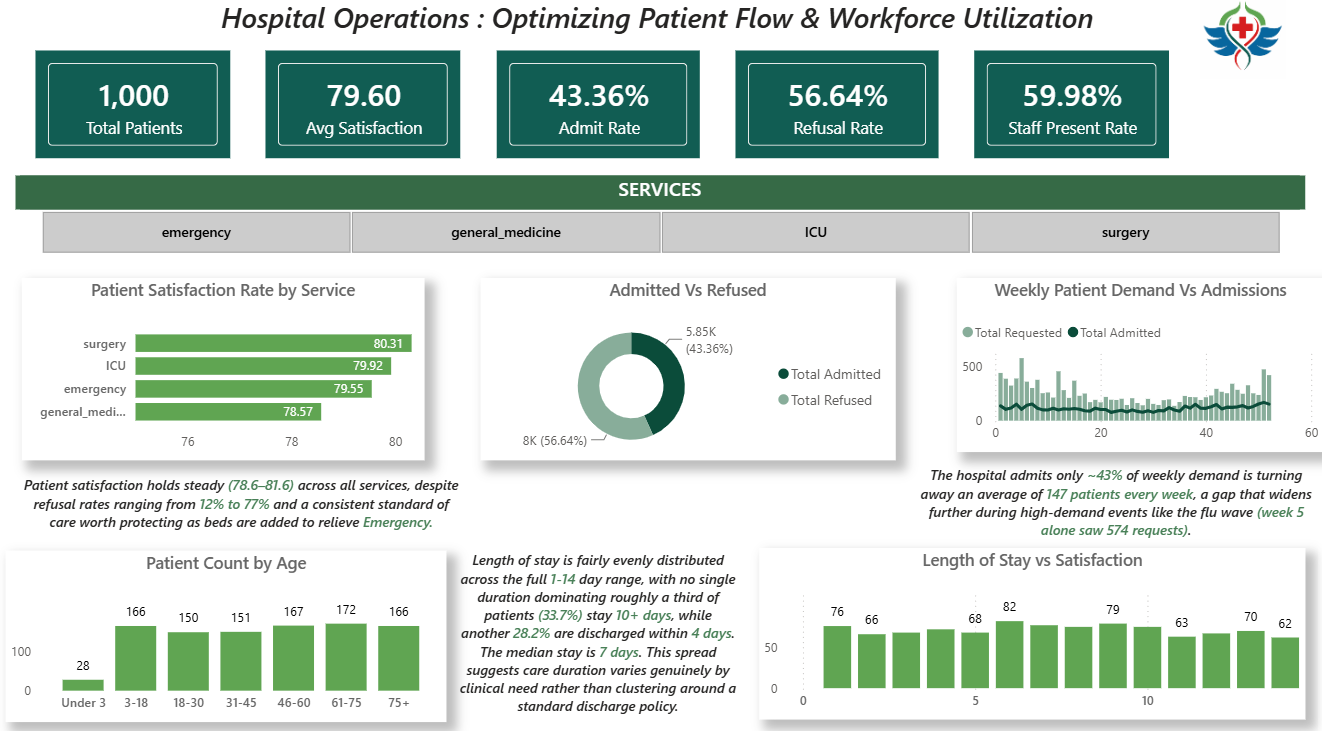

The page's visual inventory and layout, read from the dashboard file:
{"tool":"powerbi","page":{"name":"Patients","canvas":[1280,720],"ordinal":0},"visuals":[{"type":"textbox","box":[178.7,0,922.6,101],"z":0},{"type":"image","box":[1140.1,0,122.4,83],"z":1000},{"type":"cardVisual","fields":{"Data":["patients.Total Patients"]},"box":[31.4,50.7,198.6,114.3],"z":2000},{"type":"cardVisual","fields":{"Data":["staff.Staff Present Rate"]},"box":[937.4,50.7,198.6,114.3],"z":3000},{"type":"cardVisual","fields":{"Data":["services_weekly.Admit Rate"]},"box":[476.2,50.7,206.8,114.3],"z":4000},{"type":"cardVisual","fields":{"Data":["patients.Avg Satisfaction"]},"box":[253.8,50.7,198.6,114.3],"z":5000},{"type":"clusteredBarChart","title":"Patient Satisfaction Rate by Service","fields":{"Y":["patients.Avg Satisfaction"],"Category":["patients.service"]},"box":[22.9,275.1,388.5,176.1],"z":6000},{"type":"cardVisual","fields":{"Data":["patients.Refusal Rate"]},"box":[706.8,50.7,206.8,114.3],"z":7000},{"type":"donutChart","title":"Admitted Vs Refused","fields":{"Y":["patients.Total Admitted","patients.Total Refused"]},"box":[465.7,275.1,400.5,176.1],"z":8000},{"type":"lineStackedColumnComboChart","title":"Weekly Patient Demand Vs Admissions","fields":{"Y":["patients.Total Requested"],"Y2":["patients.Total Admitted"],"Category":["services_weekly.week"]},"box":[925.3,275.1,354.7,167.7],"z":9000},{"type":"clusteredColumnChart","title":"Patient Count by Age","fields":{"Y":["patients.Patient Count"],"Category":["patients.Age Group"]},"box":[7.2,538.1,425.9,165.3],"z":10000},{"type":"clusteredColumnChart","title":"Length of Stay vs Satisfaction","fields":{"Category":["patients.length_of_stay"],"Y":["CountNonNull(patients.satisfaction)"]},"box":[734.7,535.7,527.2,165.3],"z":11000},{"type":"slicer","title":"SERVICES","fields":{"Values":["services_weekly.service"]},"box":[16.9,176.1,1245,76],"z":12000},{"type":"textbox","box":[878.3,451.2,401.7,83.2],"z":13000},{"type":"textbox","box":[440.4,533.2,277.5,170.1],"z":14000},{"type":"textbox","box":[16.9,460.9,435.5,65.1],"z":15000}]}

Visuals, with their boxes in screenshot pixels (x1, y1, x2, y2), scaled from the page's 1280x720 canvas onto the 1322x731 screenshot:
textbox: <region>185, 0, 1137, 103</region>
image: <region>1178, 0, 1304, 84</region>
cardVisual - patients.Total Patients: <region>32, 51, 238, 168</region>
cardVisual - staff.Staff Present Rate: <region>968, 51, 1173, 168</region>
cardVisual - services_weekly.Admit Rate: <region>492, 51, 705, 168</region>
cardVisual - patients.Avg Satisfaction: <region>262, 51, 467, 168</region>
"Patient Satisfaction Rate by Service" clusteredBarChart: <region>24, 279, 425, 458</region>
cardVisual - patients.Refusal Rate: <region>730, 51, 944, 168</region>
"Admitted Vs Refused" donutChart: <region>481, 279, 895, 458</region>
"Weekly Patient Demand Vs Admissions" lineStackedColumnComboChart: <region>956, 279, 1321, 450</region>
"Patient Count by Age" clusteredColumnChart: <region>7, 546, 447, 714</region>
"Length of Stay vs Satisfaction" clusteredColumnChart: <region>759, 544, 1303, 712</region>
"SERVICES" slicer: <region>17, 179, 1303, 256</region>
textbox: <region>907, 458, 1321, 543</region>
textbox: <region>455, 541, 741, 714</region>
textbox: <region>17, 468, 467, 534</region>
